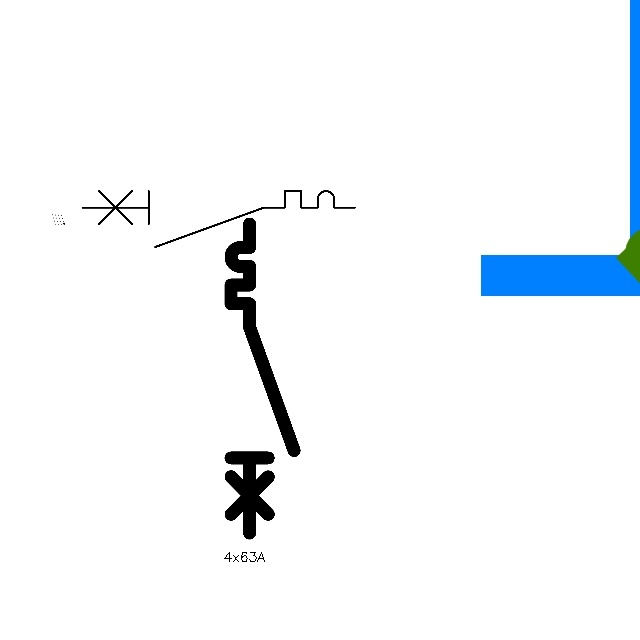interruptor_termomagnetico: (223, 216, 302, 541), (75, 184, 361, 254)
